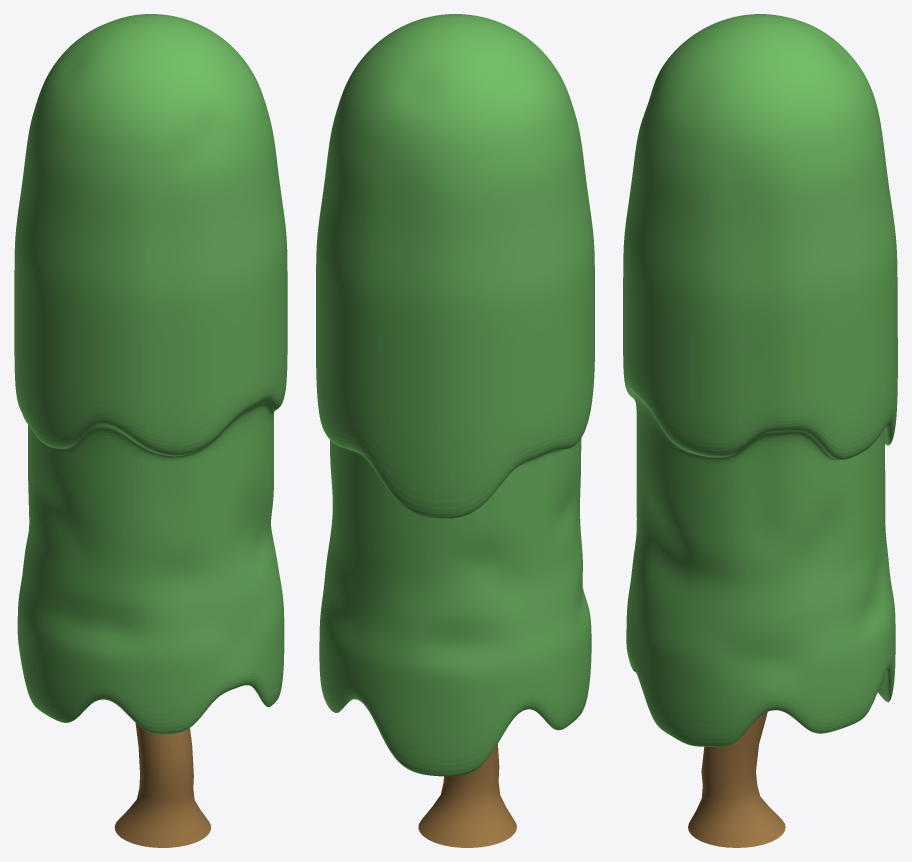
The model's file is tree2.fbx.
3 renders of one model, left to right at view 1: azimuth 30°, elevation 25°; view 2: azimuth 150°, elevation 25°; view 3: azimuth 270°, elevation 25°, orthographic. The views are drawn at different scales.
Parts seen in each view (by area): view 1: tree.003, less curvy.001; view 2: tree.003, less curvy.001; view 3: tree.003, less curvy.001.
Part boxes in pixels (x1,y1,x2,y2): tree.003: (14,14,287,734); less curvy.001: (114,723,210,847); tree.003: (316,14,594,776); less curvy.001: (418,744,516,847); tree.003: (623,14,897,747); less curvy.001: (688,712,785,847).
Size of the model in its own units: 219 by 707 by 219.
